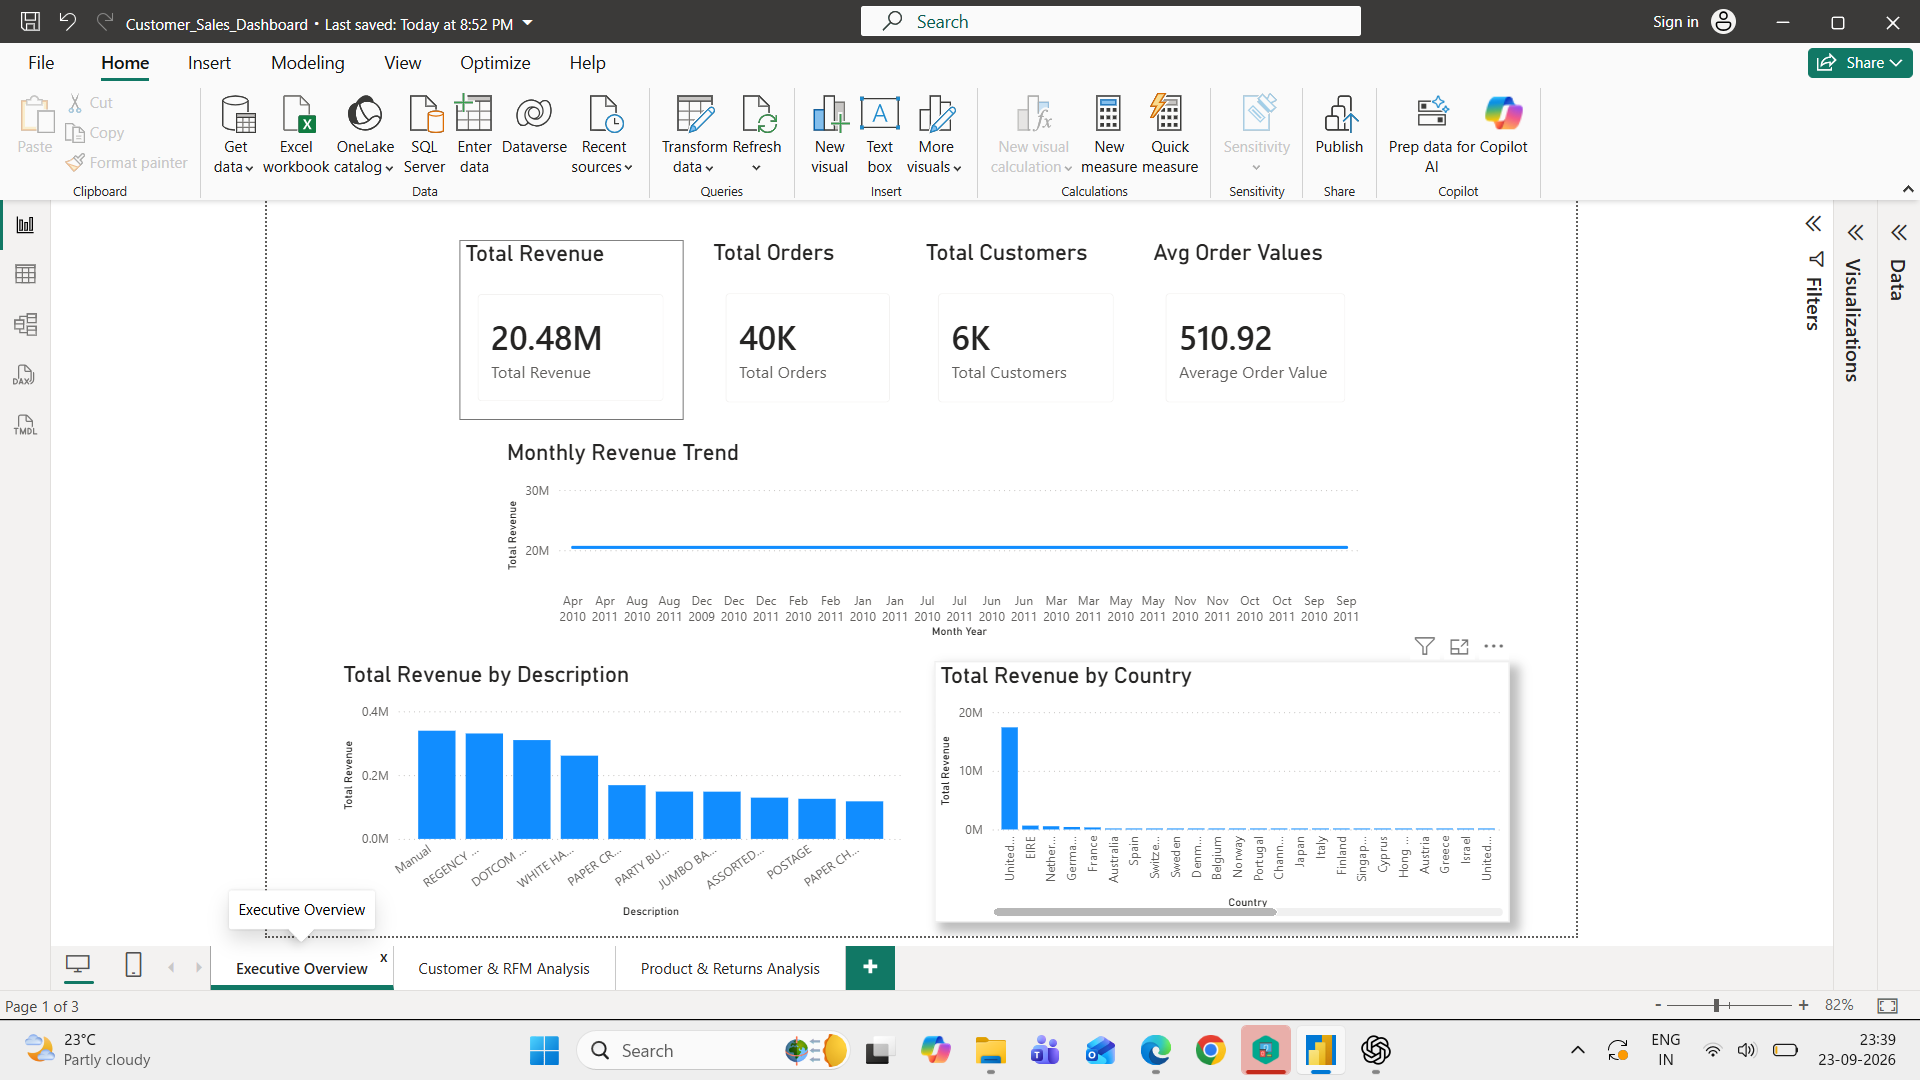

The page's visual inventory and layout, read from the dashboard file:
{"tool":"powerbi","page":{"name":"Executive Overview","canvas":[1280,720],"ordinal":0},"visuals":[{"type":"cardVisual","title":"Total Revenue","fields":{"Data":["DateTable.Total Revenue"]},"box":[188.3,39.1,218.9,176.1],"z":0},{"type":"cardVisual","title":"Total Orders","fields":{"Data":["DateTable.Total Orders"]},"box":[431.7,39.1,195.7,176.1],"z":1000},{"type":"cardVisual","title":"Total Customers","fields":{"Data":["DateTable.Total Customers"]},"box":[639.5,39.1,206.7,176.1],"z":2000},{"type":"cardVisual","title":"Avg Order Values","fields":{"Data":["DateTable.Average Order Value"]},"box":[862.1,39.1,210.3,176.1],"z":3000},{"type":"lineChart","title":"Monthly Revenue Trend","fields":{"Category":["DateTable.Month Year"],"Y":["DateTable.Total Revenue"]},"box":[229.9,234.8,845,198.1],"z":5000},{"type":"clusteredColumnChart","fields":{"Category":["transactions.Description"],"Y":["DateTable.Total Revenue"]},"box":[69.7,451.2,557.6,255.6],"z":6000},{"type":"clusteredColumnChart","fields":{"Category":["transactions.Country"],"Y":["DateTable.Total Revenue"]},"box":[653,451.2,562.5,255.6],"z":7000}]}

Visuals, with their boxes on the page's 1280x720 design canvas (x1, y1, x2, y2). These are canvas units, not pixel positions in the 1920x1080 screenshot, which may show the page scaled, cropped or inside an application window:
"Total Revenue" cardVisual: bbox=(188, 39, 407, 215)
"Total Orders" cardVisual: bbox=(432, 39, 627, 215)
"Total Customers" cardVisual: bbox=(640, 39, 846, 215)
"Avg Order Values" cardVisual: bbox=(862, 39, 1072, 215)
"Monthly Revenue Trend" lineChart: bbox=(230, 235, 1075, 433)
clusteredColumnChart - transactions.Description x DateTable.Total Revenue: bbox=(70, 451, 627, 707)
clusteredColumnChart - transactions.Country x DateTable.Total Revenue: bbox=(653, 451, 1216, 707)
